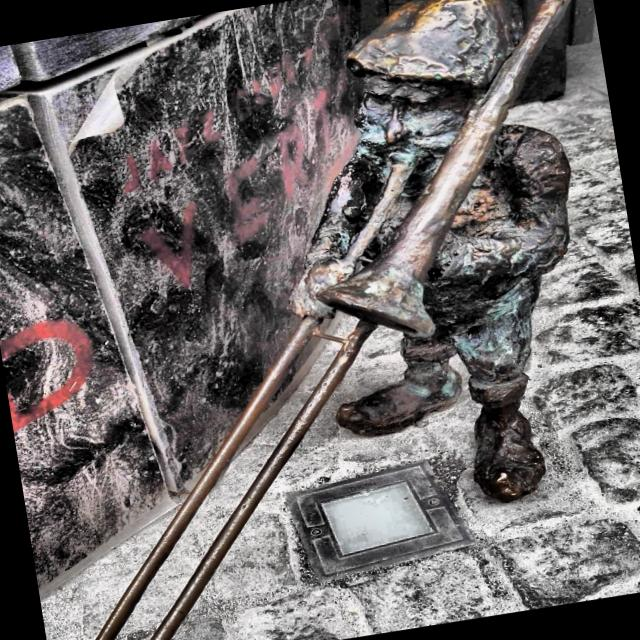Vertigus: (95, 0, 570, 640)
